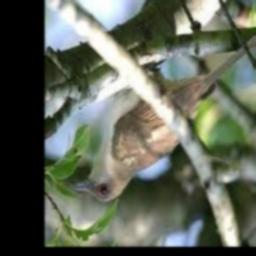Cuckoo: (72, 25, 256, 202)
